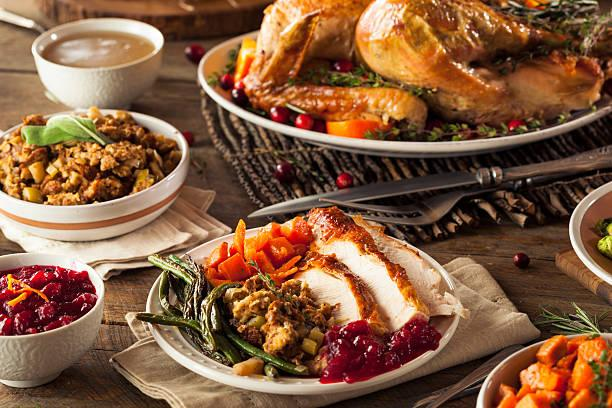Braised Crucian Carp: (198, 5, 605, 155), (147, 223, 459, 399), (1, 109, 188, 240)
